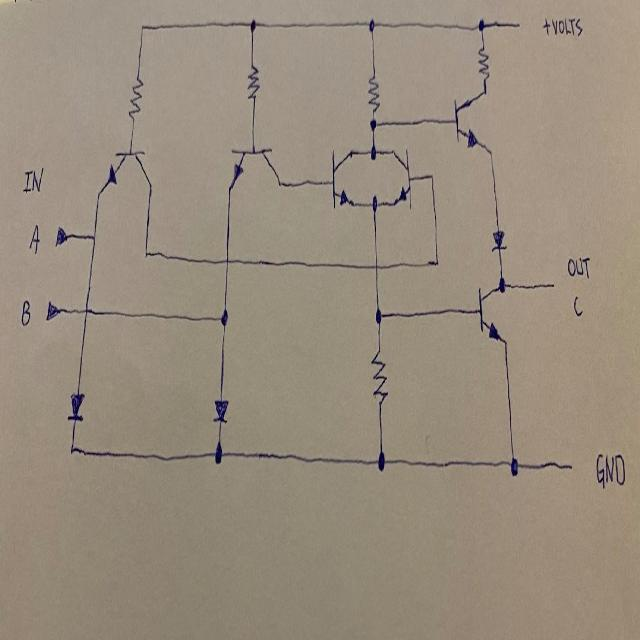diode: (64, 385, 88, 422), (210, 386, 229, 428), (489, 219, 510, 257)
junction: (372, 439, 391, 480), (506, 443, 524, 485), (211, 436, 227, 472), (216, 302, 232, 334), (370, 296, 386, 328), (366, 10, 380, 40), (428, 246, 442, 276), (425, 164, 439, 192), (220, 244, 233, 274), (85, 222, 98, 252), (495, 270, 508, 298), (78, 296, 91, 324), (476, 10, 489, 36), (246, 8, 258, 36), (369, 251, 381, 279), (66, 434, 78, 462), (368, 190, 380, 217), (140, 240, 152, 264), (368, 142, 380, 165), (138, 15, 148, 40), (368, 113, 379, 133)
resistor: (368, 344, 389, 406), (127, 71, 144, 127), (245, 59, 262, 106), (366, 67, 381, 113), (476, 42, 490, 83)
terminal: (53, 222, 77, 252), (557, 452, 579, 479), (43, 296, 62, 324), (542, 268, 560, 296), (510, 14, 526, 36)
text: (595, 448, 628, 491), (551, 10, 584, 44), (566, 250, 591, 283), (22, 161, 44, 197), (18, 292, 32, 333), (570, 290, 584, 325), (27, 221, 40, 256), (540, 12, 550, 38)
transistor: (92, 147, 156, 200), (224, 140, 280, 198), (328, 139, 358, 214), (452, 90, 484, 154), (388, 139, 415, 212), (476, 276, 498, 350)
